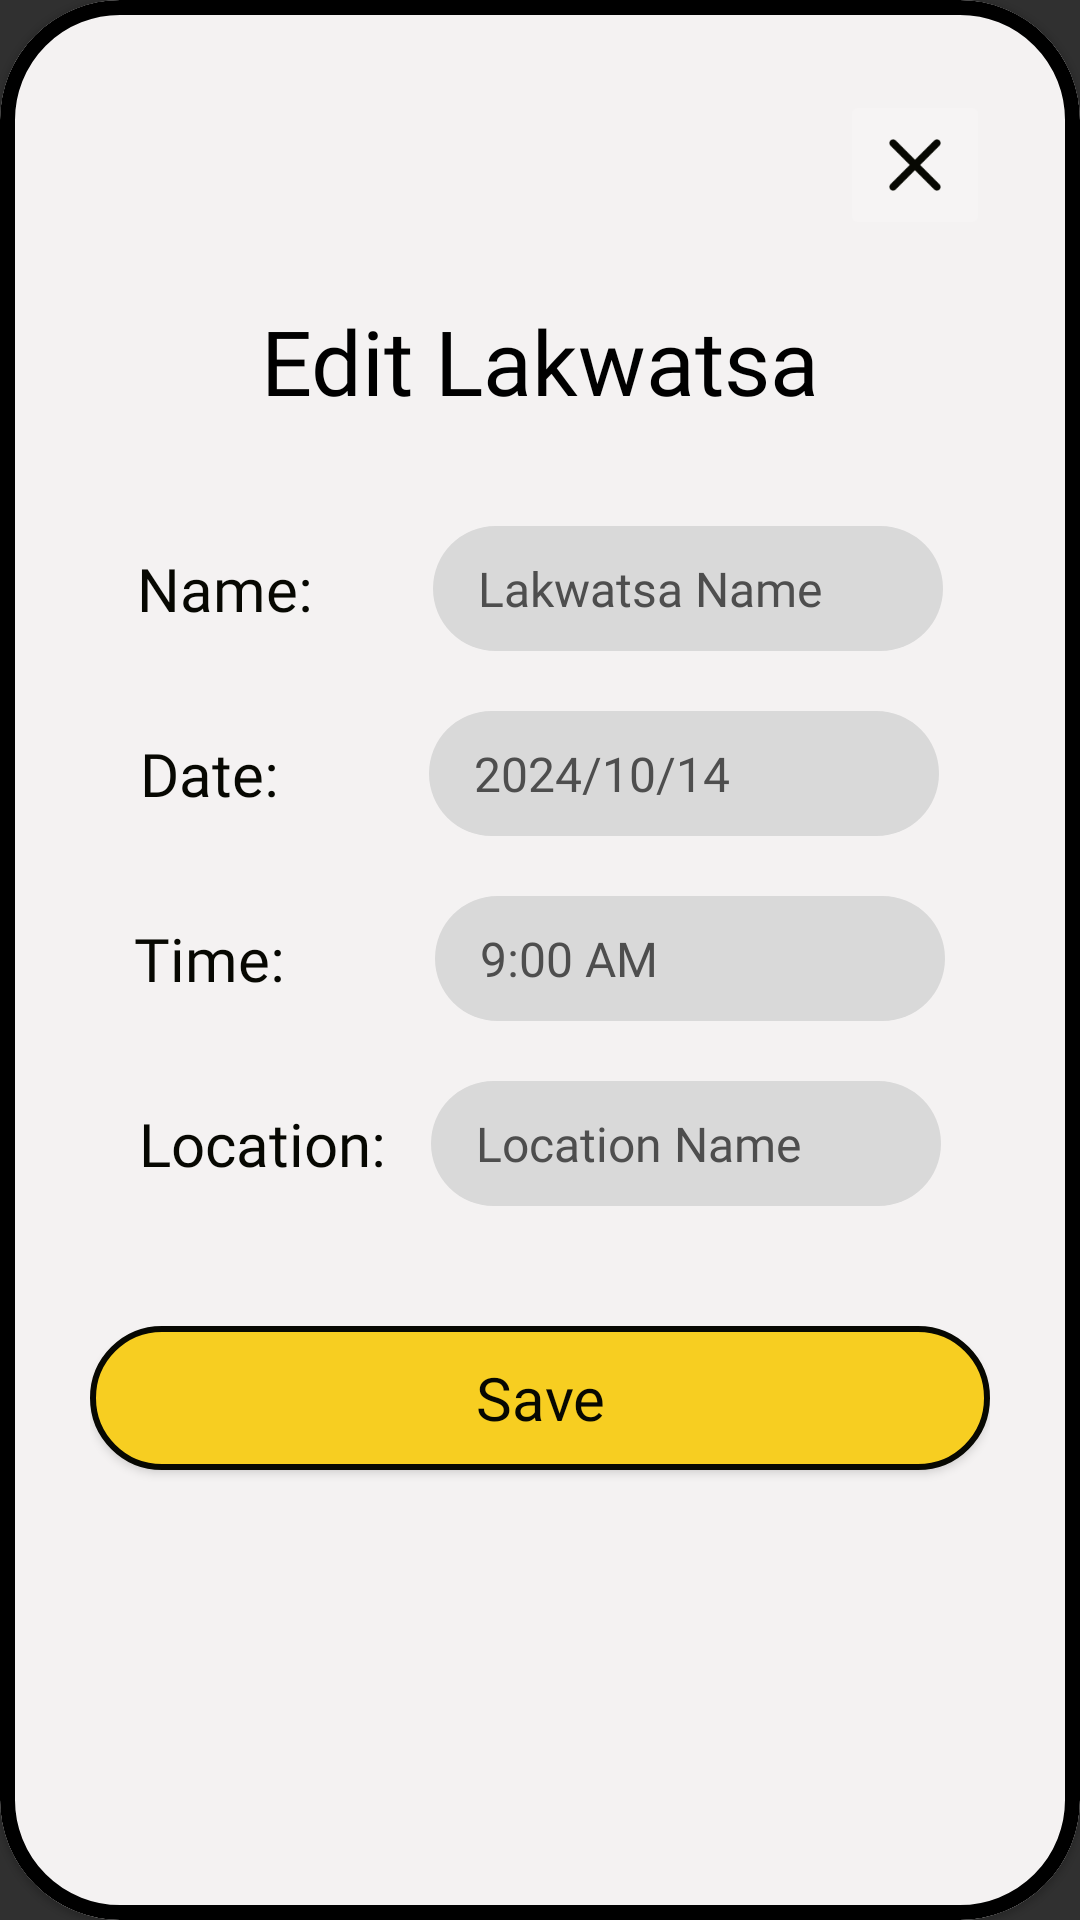

Named icons in this screenshot (1080*1920) and their bounding boxes, box(x1, y1, x2, y2):
close: box(889, 139, 941, 191)
